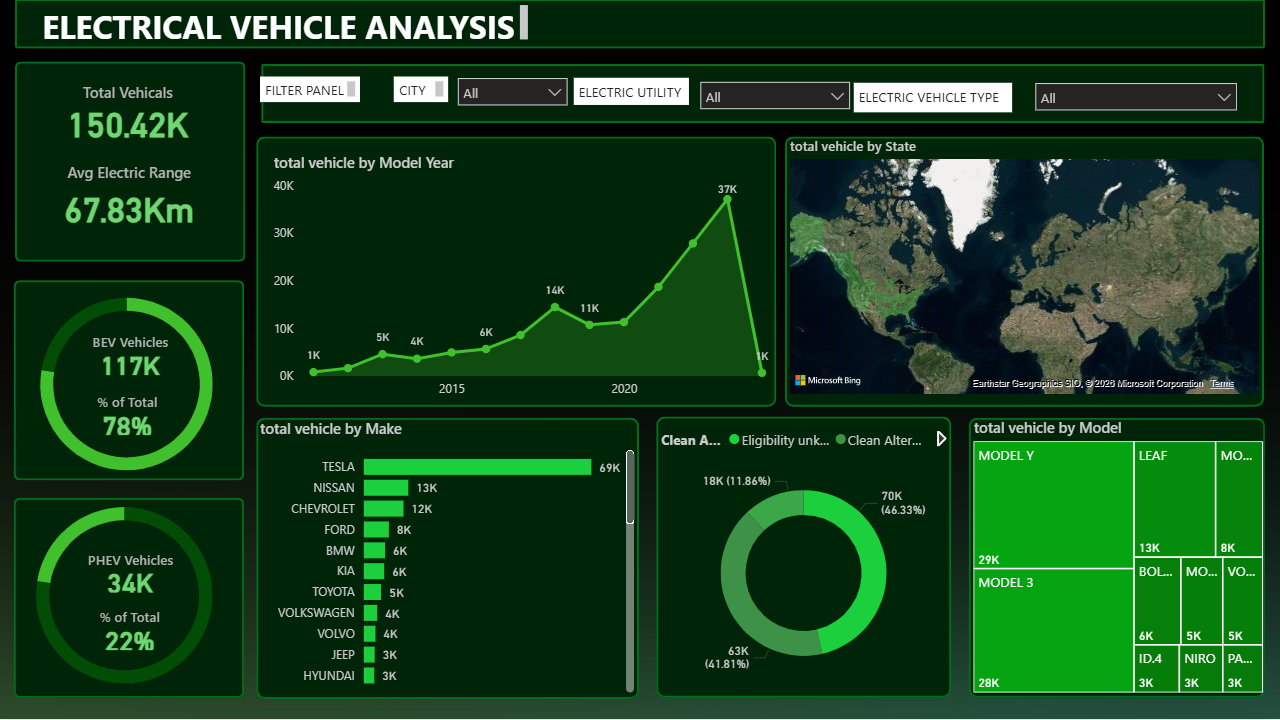

The dashboard page shown, as its layout file describes it:
{"tool":"powerbi","page":{"name":"Page 1","canvas":[1280,720],"ordinal":0},"visuals":[{"type":"shape","box":[14.5,0,1250,49.5],"z":0},{"type":"textbox","box":[37,1.4,495.4,48],"z":1000},{"type":"shape","box":[14.5,62.7,230.4,200.3],"z":2000},{"type":"card","title":"Total Vehicals","fields":{"Values":["Electric_Vehicle_Population_Dat.total vehicle"]},"box":[50.7,82,153.2,62.7],"z":3000},{"type":"card","title":"Avg Electric Range","fields":{"Values":["Electric_Vehicle_Population_Dat.Total Average"]},"box":[55.5,162.9,148.4,71.2],"z":4000},{"type":"shape","box":[13.3,281.1,230.4,200.3],"z":5000},{"type":"shape","box":[13.3,498.3,230.4,200.3],"z":6000},{"type":"donutChart","fields":{"Category":["Electric_Vehicle_Population_Dat.Electric Vehicle Type"],"Y":["Electric_Vehicle_Population_Dat.total vehicle"]},"box":[0,272.7,253.4,225.6],"z":7000},{"type":"card","title":"BEV Vehicles","fields":{"Values":["Electric_Vehicle_Population_Dat.BEV Vehicles"]},"box":[74.8,334.2,111,47.1],"z":8000},{"type":"card","title":"% of Total","fields":{"Values":["Electric_Vehicle_Population_Dat.% of BEV"]},"box":[70,393.3,114.6,47.1],"z":9000},{"type":"donutChart","fields":{"Category":["Electric_Vehicle_Population_Dat.Electric Vehicle Type"],"Y":["Electric_Vehicle_Population_Dat.total vehicle"]},"box":[5.5,481.6,238.8,230.5],"z":10000},{"type":"card","title":"PHEV Vehicles","fields":{"Values":["Electric_Vehicle_Population_Dat.PHEV Vehicles"]},"box":[74.8,551.3,111,47.1],"z":11000},{"type":"card","title":"% of Total","fields":{"Values":["Electric_Vehicle_Population_Dat.% of PHEV"]},"box":[72.4,609.3,114.6,47.1],"z":12000},{"type":"shape","box":[261.1,64.4,1003.3,58.9],"z":13000},{"type":"shape","box":[255.8,137.5,520,270.2],"z":14000},{"type":"areaChart","fields":{"Category":["Electric_Vehicle_Population_Dat.Model Year"],"Y":["Electric_Vehicle_Population_Dat.total vehicle"]},"box":[268.9,152.1,511.4,255.7],"z":15000},{"type":"shape","box":[785.4,137.5,479,270.2],"z":16000},{"type":"filledMap","fields":{"Category":["Electric_Vehicle_Population_Dat.State"],"Y":["Electric_Vehicle_Population_Dat.total vehicle"]},"box":[785.4,137.5,479,263],"z":17000},{"type":"shape","box":[256.6,418.5,382.8,281.3],"z":18000},{"type":"barChart","fields":{"Category":["Electric_Vehicle_Population_Dat.Make"],"Y":["Electric_Vehicle_Population_Dat.total vehicle"]},"box":[255.2,418.5,384.2,279.9],"z":19000},{"type":"shape","box":[655.9,417.2,295,281.3],"z":20000},{"type":"donutChart","title":"total vehicle by (CAFV) Eligibility","fields":{"Category":["Electric_Vehicle_Population_Dat.Clean Alternative Fuel Vehicle (CAFV) Eligibility"],"Y":["Electric_Vehicle_Population_Dat.total vehicle"]},"box":[655.9,419.9,295,278.6],"z":21000},{"type":"shape","box":[968.8,418.5,296.4,279.9],"z":22000},{"type":"treemap","fields":{"Group":["Electric_Vehicle_Population_Dat.Model"],"Values":["Electric_Vehicle_Population_Dat.total vehicle"]},"box":[968.8,417.4,299.2,281.1],"z":23000},{"type":"slicer","fields":{"Values":["Electric_Vehicle_Population_Dat.City"]},"box":[448,69,130,44],"z":24000},{"type":"textbox","box":[260.6,77.2,100.1,25.3],"z":25000},{"type":"textbox","box":[393.3,77.2,54.3,25.3],"z":26000},{"type":"slicer","fields":{"Values":["Electric_Vehicle_Population_Dat.Electric Utility"]},"box":[690.4,72.5,170.1,41.9],"z":27000},{"type":"textbox","box":[573.7,79,115.6,27.5],"z":28000},{"type":"slicer","fields":{"Values":["Electric_Vehicle_Population_Dat.Electric Vehicle Type"]},"box":[1025.5,73.6,222,39.8],"z":29000},{"type":"textbox","box":[853.9,83.2,158.7,29.3],"z":30000}]}

Visuals, with their boxes in screenshot pixels (x1, y1, x2, y2), scaled from the page's 1280x720 canvas onto the 1280x720 screenshot:
shape: 14, 0, 1264, 50
textbox: 37, 1, 532, 49
shape: 14, 63, 245, 263
"Total Vehicals" card: 51, 82, 204, 145
"Avg Electric Range" card: 56, 163, 204, 234
shape: 13, 281, 244, 481
shape: 13, 498, 244, 699
donutChart - Electric_Vehicle_Population_Dat.Electric Vehicle Type x Electric_Vehicle_Population_Dat.total vehicle: 0, 273, 253, 498
"BEV Vehicles" card: 75, 334, 186, 381
"% of Total" card: 70, 393, 185, 440
donutChart - Electric_Vehicle_Population_Dat.Electric Vehicle Type x Electric_Vehicle_Population_Dat.total vehicle: 6, 482, 244, 712
"PHEV Vehicles" card: 75, 551, 186, 598
"% of Total" card: 72, 609, 187, 656
shape: 261, 64, 1264, 123
shape: 256, 138, 776, 408
areaChart - Electric_Vehicle_Population_Dat.Model Year x Electric_Vehicle_Population_Dat.total vehicle: 269, 152, 780, 408
shape: 785, 138, 1264, 408
filledMap - Electric_Vehicle_Population_Dat.State x Electric_Vehicle_Population_Dat.total vehicle: 785, 138, 1264, 400
shape: 257, 418, 639, 700
barChart - Electric_Vehicle_Population_Dat.Make x Electric_Vehicle_Population_Dat.total vehicle: 255, 418, 639, 698
shape: 656, 417, 951, 698
"total vehicle by (CAFV) Eligibility" donutChart: 656, 420, 951, 698
shape: 969, 418, 1265, 698
treemap - Electric_Vehicle_Population_Dat.Model x Electric_Vehicle_Population_Dat.total vehicle: 969, 417, 1268, 698
slicer - Electric_Vehicle_Population_Dat.City: 448, 69, 578, 113
textbox: 261, 77, 361, 102
textbox: 393, 77, 448, 102
slicer - Electric_Vehicle_Population_Dat.Electric Utility: 690, 72, 860, 114
textbox: 574, 79, 689, 106
slicer - Electric_Vehicle_Population_Dat.Electric Vehicle Type: 1026, 74, 1248, 113
textbox: 854, 83, 1013, 112
